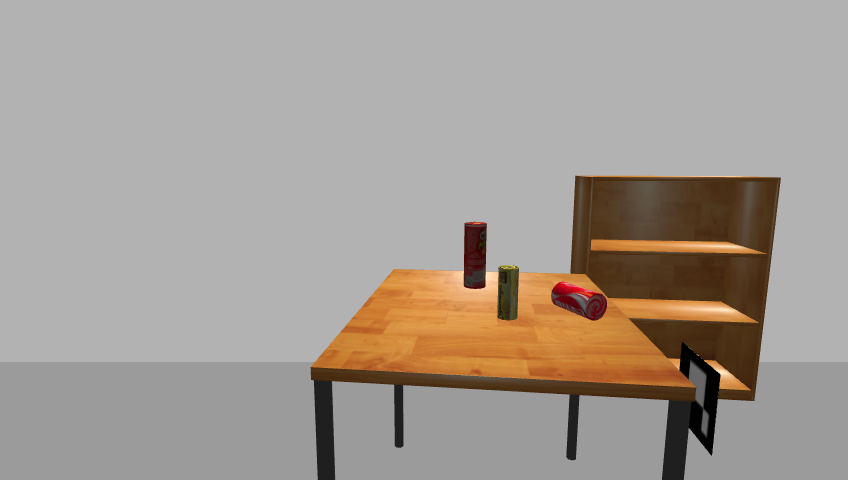aruco marker: (676, 343, 723, 455)
biscuits pack: (497, 265, 520, 322)
bookshelf: (565, 173, 789, 408)
coke can: (549, 281, 609, 321)
dinner table: (306, 267, 701, 480)
pringles can: (461, 221, 489, 290)
